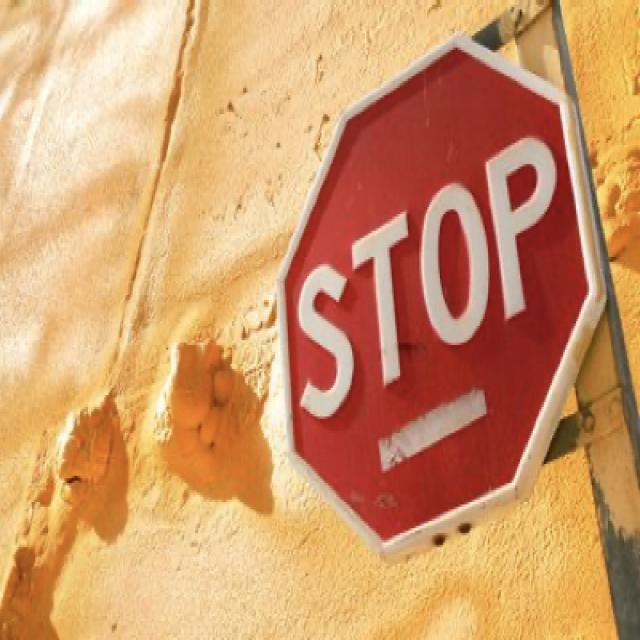stop: (272, 31, 610, 554)
